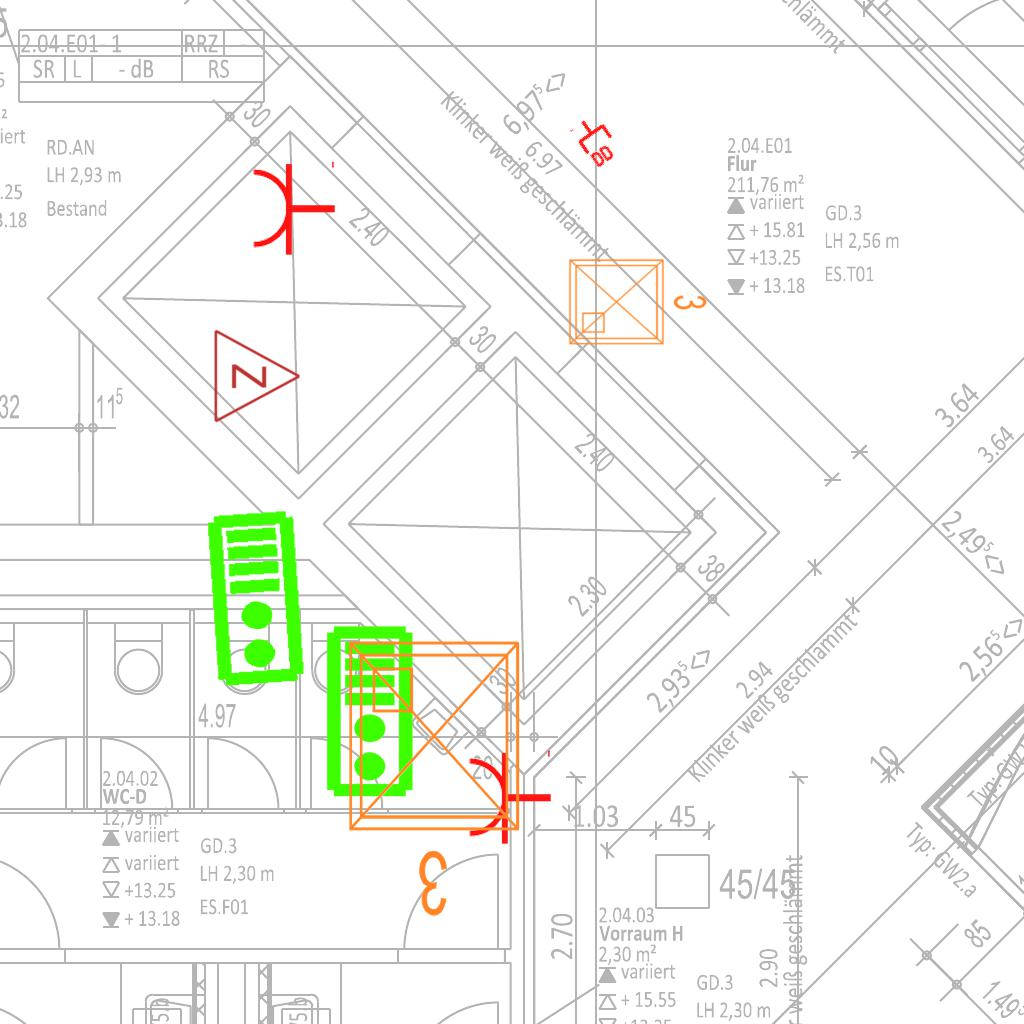Datenanschluss_zweifach: (568, 109, 626, 172)
Einbaudownlights_LED_Konferenzraeume: (334, 627, 542, 927), (562, 248, 712, 352)
Gegensprechanlage_mit_Video: (203, 507, 312, 691), (324, 624, 419, 800)
Schukosteckdose_einfach: (250, 157, 337, 257), (466, 746, 553, 846)
Zimmersignalleuchte: (207, 326, 307, 424)
